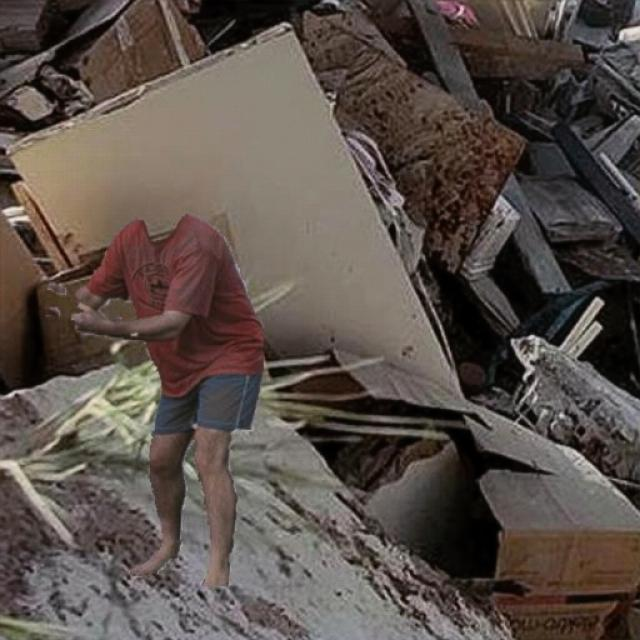Person in Rubble: (46, 214, 262, 585)
